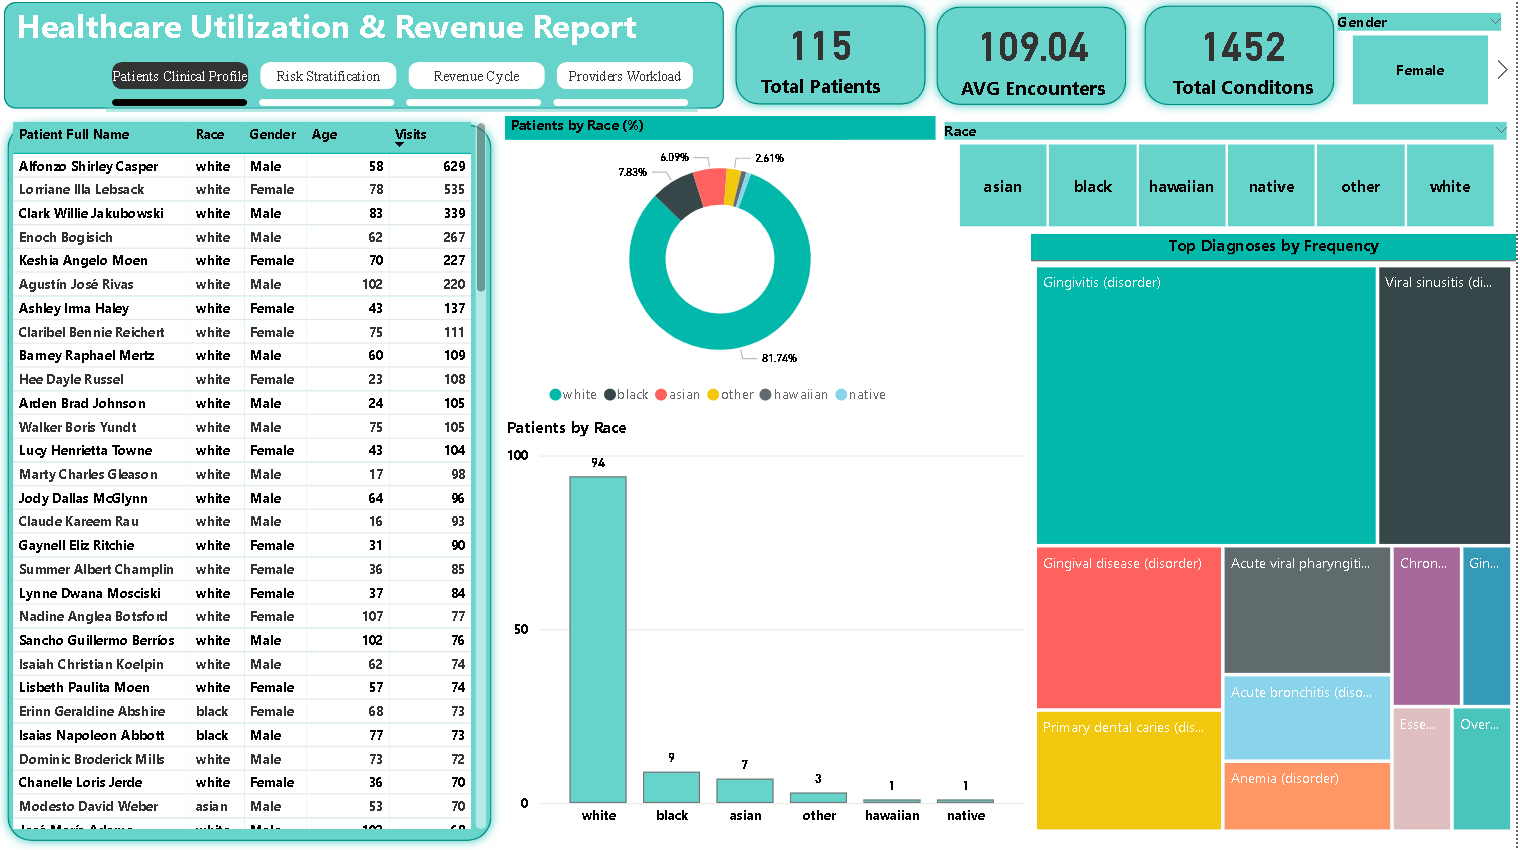

What the dashboard file says about the page in this screenshot:
{"tool":"powerbi","page":{"name":"Patients Clinical Profile","canvas":[1280,720],"ordinal":0},"visuals":[{"type":"shape","box":[0,100,424,620],"z":0},{"type":"shape","box":[613.8,0,176.2,99.5],"z":1000},{"type":"shape","box":[783,1,176,99],"z":2000},{"type":"shape","box":[959,0,176,100],"z":3000},{"type":"card","fields":{"Values":["Count(Patient_Coditions_bridge.patient_id)"]},"box":[605.3,5.1,176.2,88.5],"z":4000},{"type":"card","title":"Avg Encounter Per Patient","fields":{"Values":["Avg(Patient_Coditions_bridge.lifetime_encounter_count)"]},"box":[783.2,6.7,177.9,87.7],"z":5000},{"type":"card","fields":{"Values":["CountNonNull(Patient_Coditions_bridge.all_conditions)"]},"box":[961.1,0,177,100.3],"z":6000},{"type":"tableEx","fields":{"Values":["vw_patient_summary.patient_full_name","vw_patient_summary.race","vw_patient_summary.gender","Sum(vw_patient_summary.Patient_Age)","Sum(vw_patient_summary.lifetime_encounter_count)"]},"box":[7.1,101.4,410.2,606],"z":7000},{"type":"slicer","fields":{"Values":["Patient_Coditions_bridge.gender"]},"box":[1135,12,145,100],"z":8000},{"type":"slicer","fields":{"Values":["Patient_Coditions_bridge.race"]},"box":[790,101,490,100],"z":9000},{"type":"clusteredColumnChart","title":"Patients by Race","fields":{"Category":["vw_patient_summary.race"],"Y":["CountNonNull(vw_patient_summary.patient_id)"]},"box":[424.1,354.1,446.8,353.3],"z":10000},{"type":"treemap","title":"Top Diagnoses by Frequency","fields":{"Group":["Patient_Coditions_bridge.all_conditions"],"Values":["CountNonNull(Patient_Coditions_bridge.all_conditions)"]},"box":[871,201,409,506],"z":11000},{"type":"donutChart","title":"Patients by Race (%)","fields":{"Category":["vw_patient_summary.race"],"Y":["CountNonNull(vw_patient_summary.race)"]},"box":[427.4,101.2,362.5,252.9],"z":12000},{"type":"shape","box":[0,0,617,100],"z":13000},{"type":"pageNavigator","box":[91.5,82,499.4,16],"z":14000,"group":"g1"},{"type":"pageNavigator","box":[91.1,50.6,501.6,33.7],"z":15000,"group":"g1"},{"type":"group","id":"g1","title":"Sub Navigation","box":[91.1,50.6,501.6,47.4],"z":15001}]}

Visuals, with their boxes in screenshot pixels (x1, y1, x2, y2), scaled from the page's 1280x720 canvas onto the 1520x850 screenshot:
shape: pyautogui.locateOnScreen(0, 118, 504, 849)
shape: pyautogui.locateOnScreen(729, 0, 938, 117)
shape: pyautogui.locateOnScreen(930, 1, 1139, 118)
shape: pyautogui.locateOnScreen(1139, 0, 1348, 118)
card - Count(Patient_Coditions_bridge.patient_id): pyautogui.locateOnScreen(719, 6, 928, 110)
"Avg Encounter Per Patient" card: pyautogui.locateOnScreen(930, 8, 1141, 111)
card - CountNonNull(Patient_Coditions_bridge.all_conditions): pyautogui.locateOnScreen(1141, 0, 1351, 118)
tableEx - vw_patient_summary.patient_full_name x vw_patient_summary.race: pyautogui.locateOnScreen(8, 120, 496, 835)
slicer - Patient_Coditions_bridge.gender: pyautogui.locateOnScreen(1348, 14, 1519, 132)
slicer - Patient_Coditions_bridge.race: pyautogui.locateOnScreen(938, 119, 1519, 237)
"Patients by Race" clusteredColumnChart: pyautogui.locateOnScreen(504, 418, 1034, 835)
"Top Diagnoses by Frequency" treemap: pyautogui.locateOnScreen(1034, 237, 1519, 835)
"Patients by Race (%)" donutChart: pyautogui.locateOnScreen(508, 119, 938, 418)
shape: pyautogui.locateOnScreen(0, 0, 733, 118)
pageNavigator: pyautogui.locateOnScreen(109, 97, 702, 116)
pageNavigator: pyautogui.locateOnScreen(108, 60, 704, 100)
"Sub Navigation" group: pyautogui.locateOnScreen(108, 60, 704, 116)
